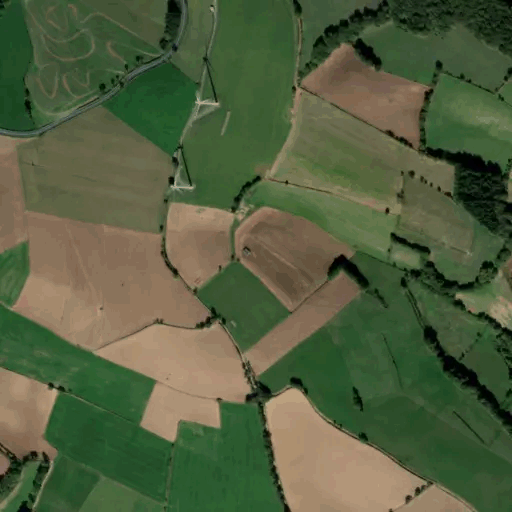wt: (188, 42, 228, 116), (162, 136, 198, 196)
